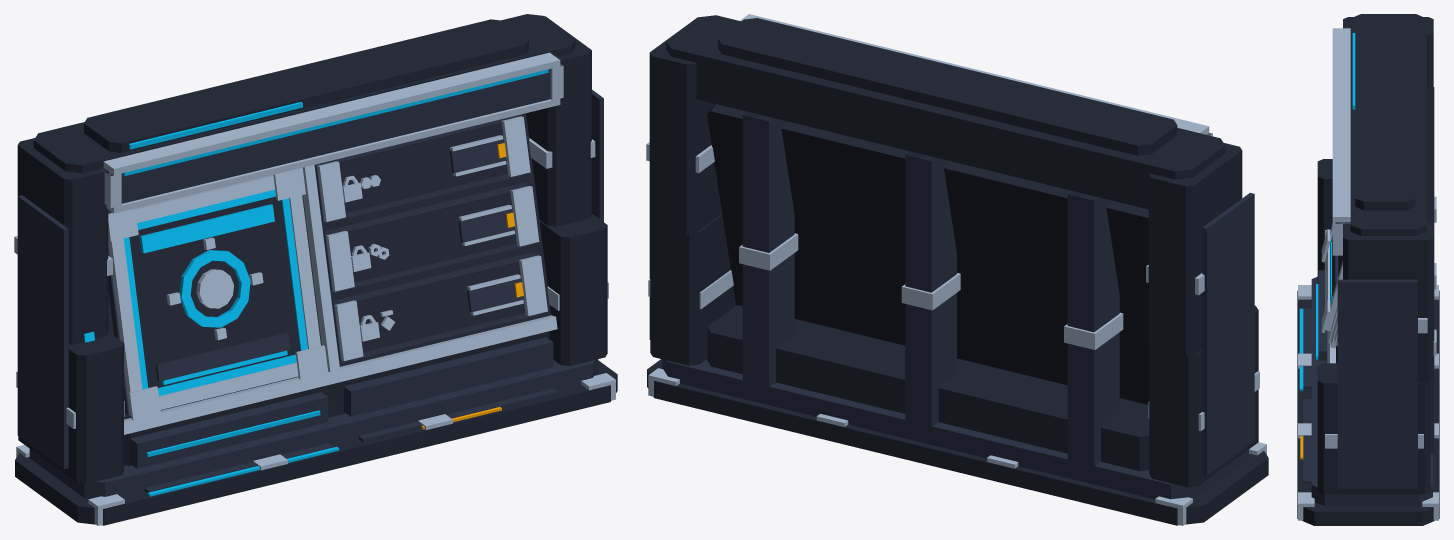
Rendered from SM_Hub_ModeBoard_01.obj.
The picture shows the model from 3 angles, left to right: view 1: azimuth 30°, elevation 25°; view 2: azimuth 150°, elevation 25°; view 3: azimuth 270°, elevation 25°; orthographic projection. The views are drawn at different scales.
Parts seen in each view (by area): view 1: GEO_ModeBoard_CommandMatrixFrame, GEO_ModeBoard_BaseUpperTier, GEO_ModeBoard_HeaderCanopy, GEO_ModeBoard_ModeReliefs, GEO_ModeBoard_LeftButtress, GEO_ModeBoard_RightButtress, GEO_ModeBoard_UIPanel_01_FFA, GEO_ModeBoard_BasePlinth, GEO_ModeBoard_CyanAccents, GEO_ModeBoard_ActiveModeReticle, GEO_ModeBoard_HeaderSign, GEO_ModeBoard_LockReliefs (+5 smaller); view 2: GEO_ModeBoard_MainChassis, GEO_ModeBoard_HeaderCanopy, GEO_ModeBoard_BaseUpperTier, GEO_ModeBoard_BasePlinth, GEO_ModeBoard_LeftButtress, GEO_ModeBoard_RightButtress, GEO_ModeBoard_CommandMatrixFrame, GEO_ModeBoard_SideCollars, GEO_ModeBoard_ModeReliefs; view 3: GEO_ModeBoard_CommandMatrixFrame, GEO_ModeBoard_HeaderCanopy, GEO_ModeBoard_RightButtress, GEO_ModeBoard_BaseUpperTier, GEO_ModeBoard_BasePlinth, GEO_ModeBoard_ModeReliefs, GEO_ModeBoard_SideCollars, GEO_ModeBoard_LeftButtress, GEO_ModeBoard_CyanAccents, GEO_ModeBoard_ActiveModeReticle.
Boxes of the visible parts, box(x1,y1,x2,y2) form: GEO_ModeBoard_CommandMatrixFrame: box(17, 90, 603, 469); GEO_ModeBoard_BaseUpperTier: box(29, 337, 598, 498); GEO_ModeBoard_HeaderCanopy: box(33, 14, 575, 175); GEO_ModeBoard_ModeReliefs: box(100, 52, 563, 434); GEO_ModeBoard_LeftButtress: box(17, 138, 123, 483); GEO_ModeBoard_RightButtress: box(526, 16, 607, 365); GEO_ModeBoard_UIPanel_01_FFA: box(129, 196, 300, 387); GEO_ModeBoard_BasePlinth: box(15, 331, 617, 525); GEO_ModeBoard_CyanAccents: box(84, 69, 548, 496); GEO_ModeBoard_ActiveModeReticle: box(108, 168, 328, 420); GEO_ModeBoard_HeaderSign: box(111, 69, 550, 203); GEO_ModeBoard_LockReliefs: box(317, 116, 547, 360); GEO_ModeBoard_MainChassis: box(707, 104, 1149, 404); GEO_ModeBoard_HeaderCanopy: box(666, 15, 1225, 209); GEO_ModeBoard_BaseUpperTier: box(662, 111, 1248, 499); GEO_ModeBoard_BasePlinth: box(647, 305, 1268, 525); GEO_ModeBoard_LeftButtress: box(1148, 143, 1258, 487); GEO_ModeBoard_RightButtress: box(649, 17, 736, 365); GEO_ModeBoard_CommandMatrixFrame: box(649, 193, 1254, 475); GEO_ModeBoard_SideCollars: box(646, 142, 1266, 525); GEO_ModeBoard_ModeReliefs: box(740, 14, 1212, 136); GEO_ModeBoard_CommandMatrixFrame: box(1332, 238, 1417, 488); GEO_ModeBoard_HeaderCanopy: box(1350, 14, 1426, 235); GEO_ModeBoard_RightButtress: box(1317, 221, 1433, 494); GEO_ModeBoard_BaseUpperTier: box(1303, 87, 1434, 506); GEO_ModeBoard_BasePlinth: box(1297, 290, 1439, 525); GEO_ModeBoard_ModeReliefs: box(1327, 28, 1350, 363); GEO_ModeBoard_SideCollars: box(1298, 196, 1438, 520); GEO_ModeBoard_LeftButtress: box(1317, 17, 1433, 283); GEO_ModeBoard_CyanAccents: box(1299, 33, 1355, 390); GEO_ModeBoard_ActiveModeReticle: box(1321, 223, 1342, 332).
Size of the model in its own units: 14.4 by 8.8 by 3.8.
5 materials, 5 textured.
